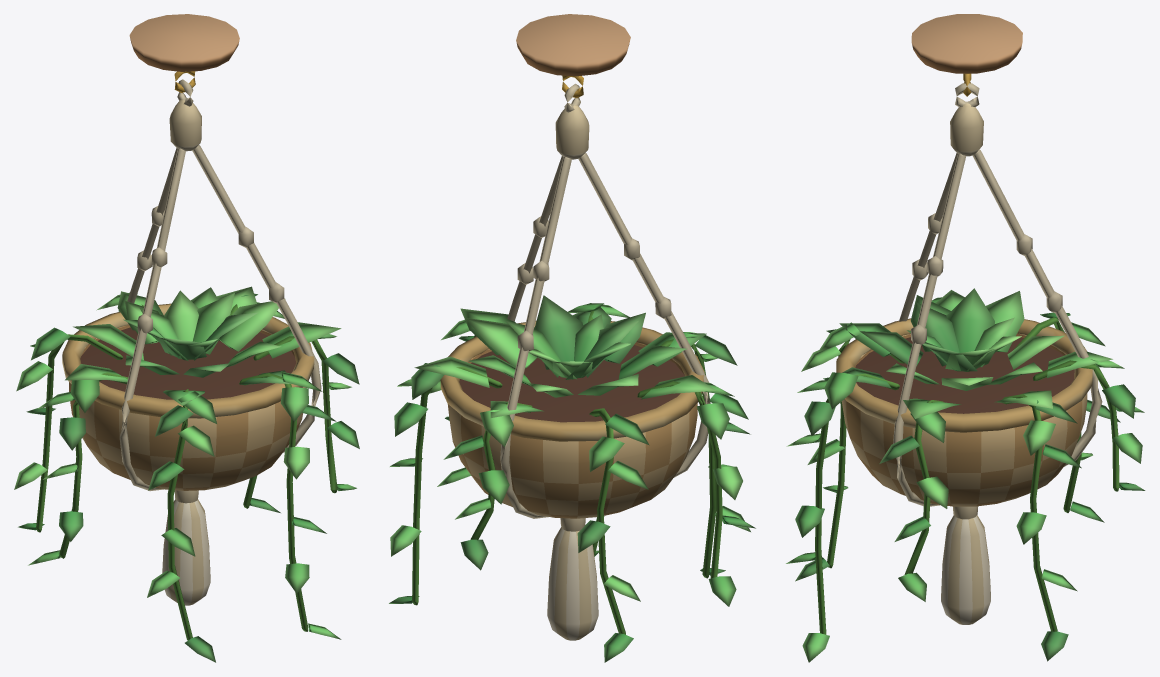
File: furn-hangingPlanter.glb
3 renders of one model, left to right at view 1: azimuth 30°, elevation 25°; view 2: azimuth 150°, elevation 25°; view 3: azimuth 270°, elevation 25°, orthographic. The views are drawn at different scales.
Parts seen in each view (by area): view 1: furn; view 2: furn; view 3: furn.
Part boxes in pixels (x1,y1,x2,y2): furn: (14, 14, 359, 662); furn: (389, 14, 755, 662); furn: (786, 14, 1145, 662).
Bounding box in the file's own units: 0.451 × 0.8 × 0.4463.
